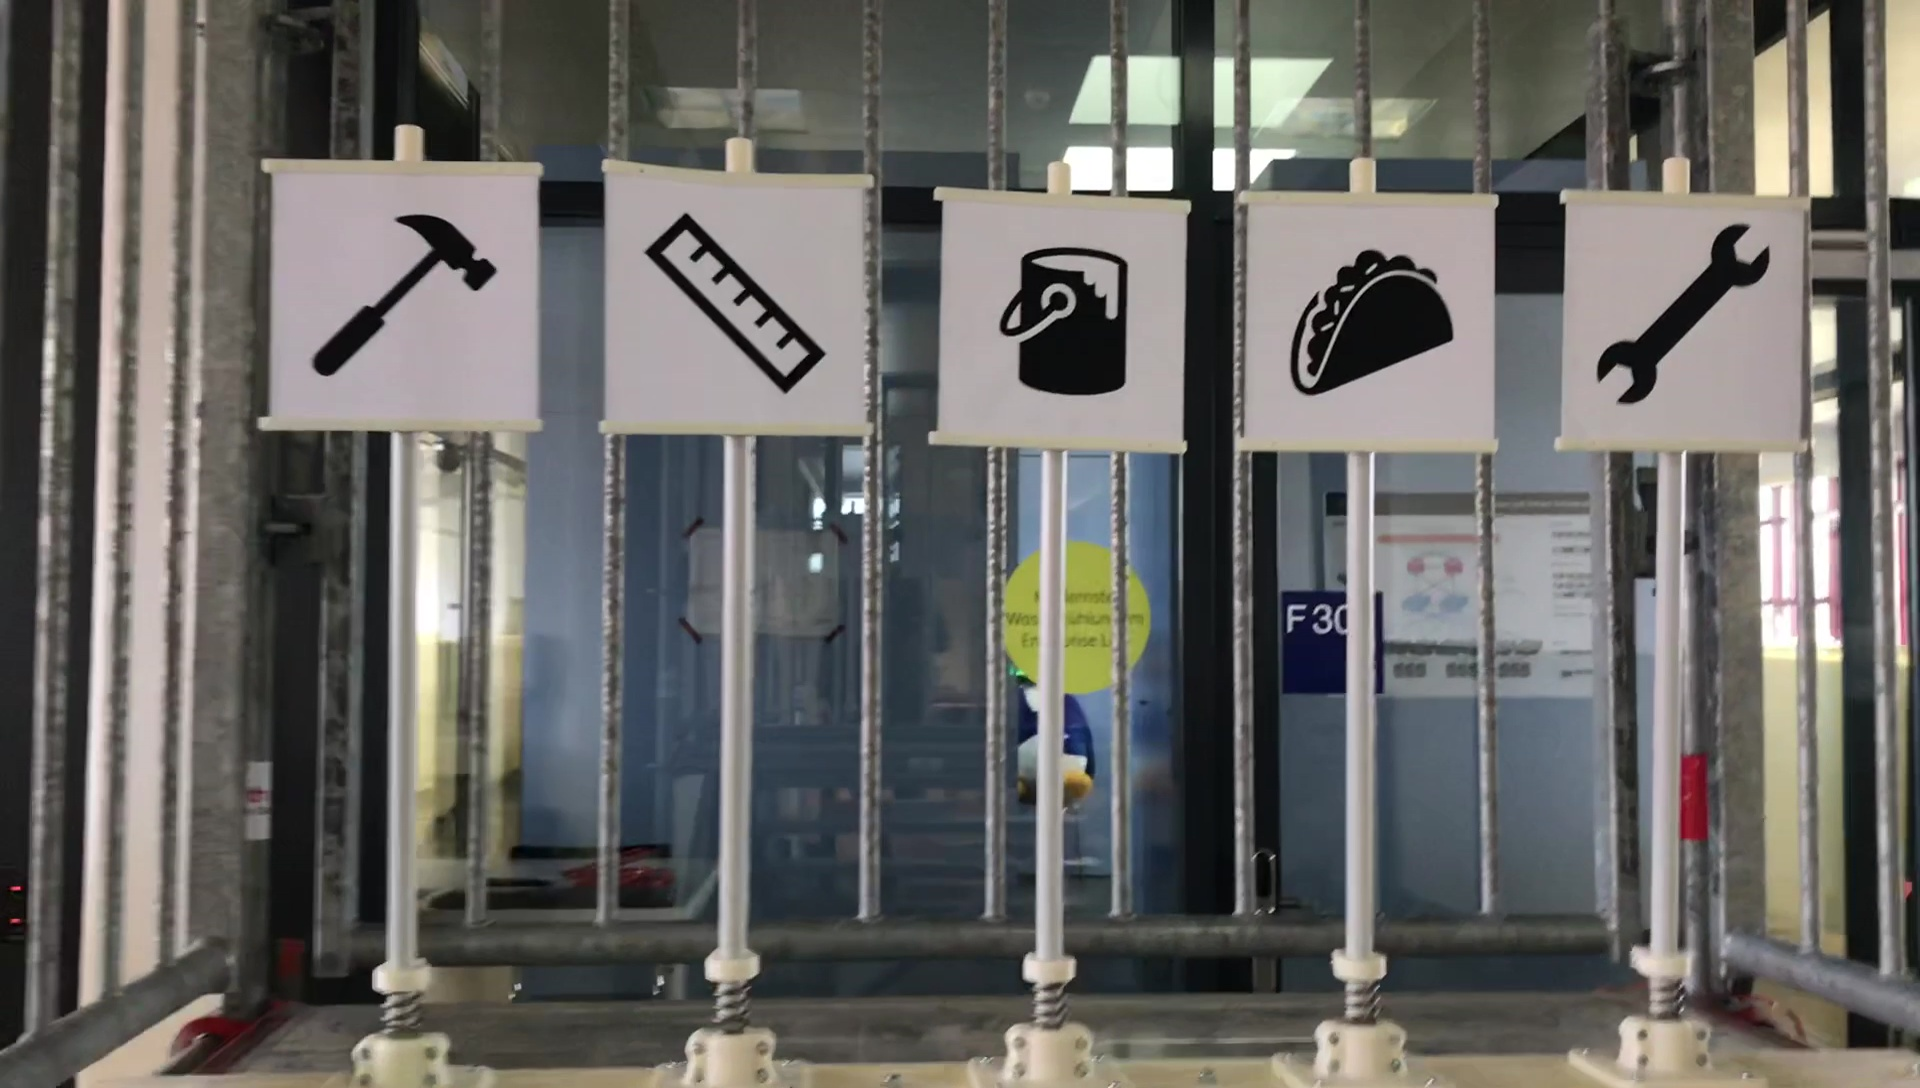bucket: (996, 240, 1135, 408)
hammer: (302, 200, 506, 382)
ruler: (640, 207, 835, 393)
taco: (1292, 247, 1456, 397)
wrench: (1592, 222, 1776, 408)
